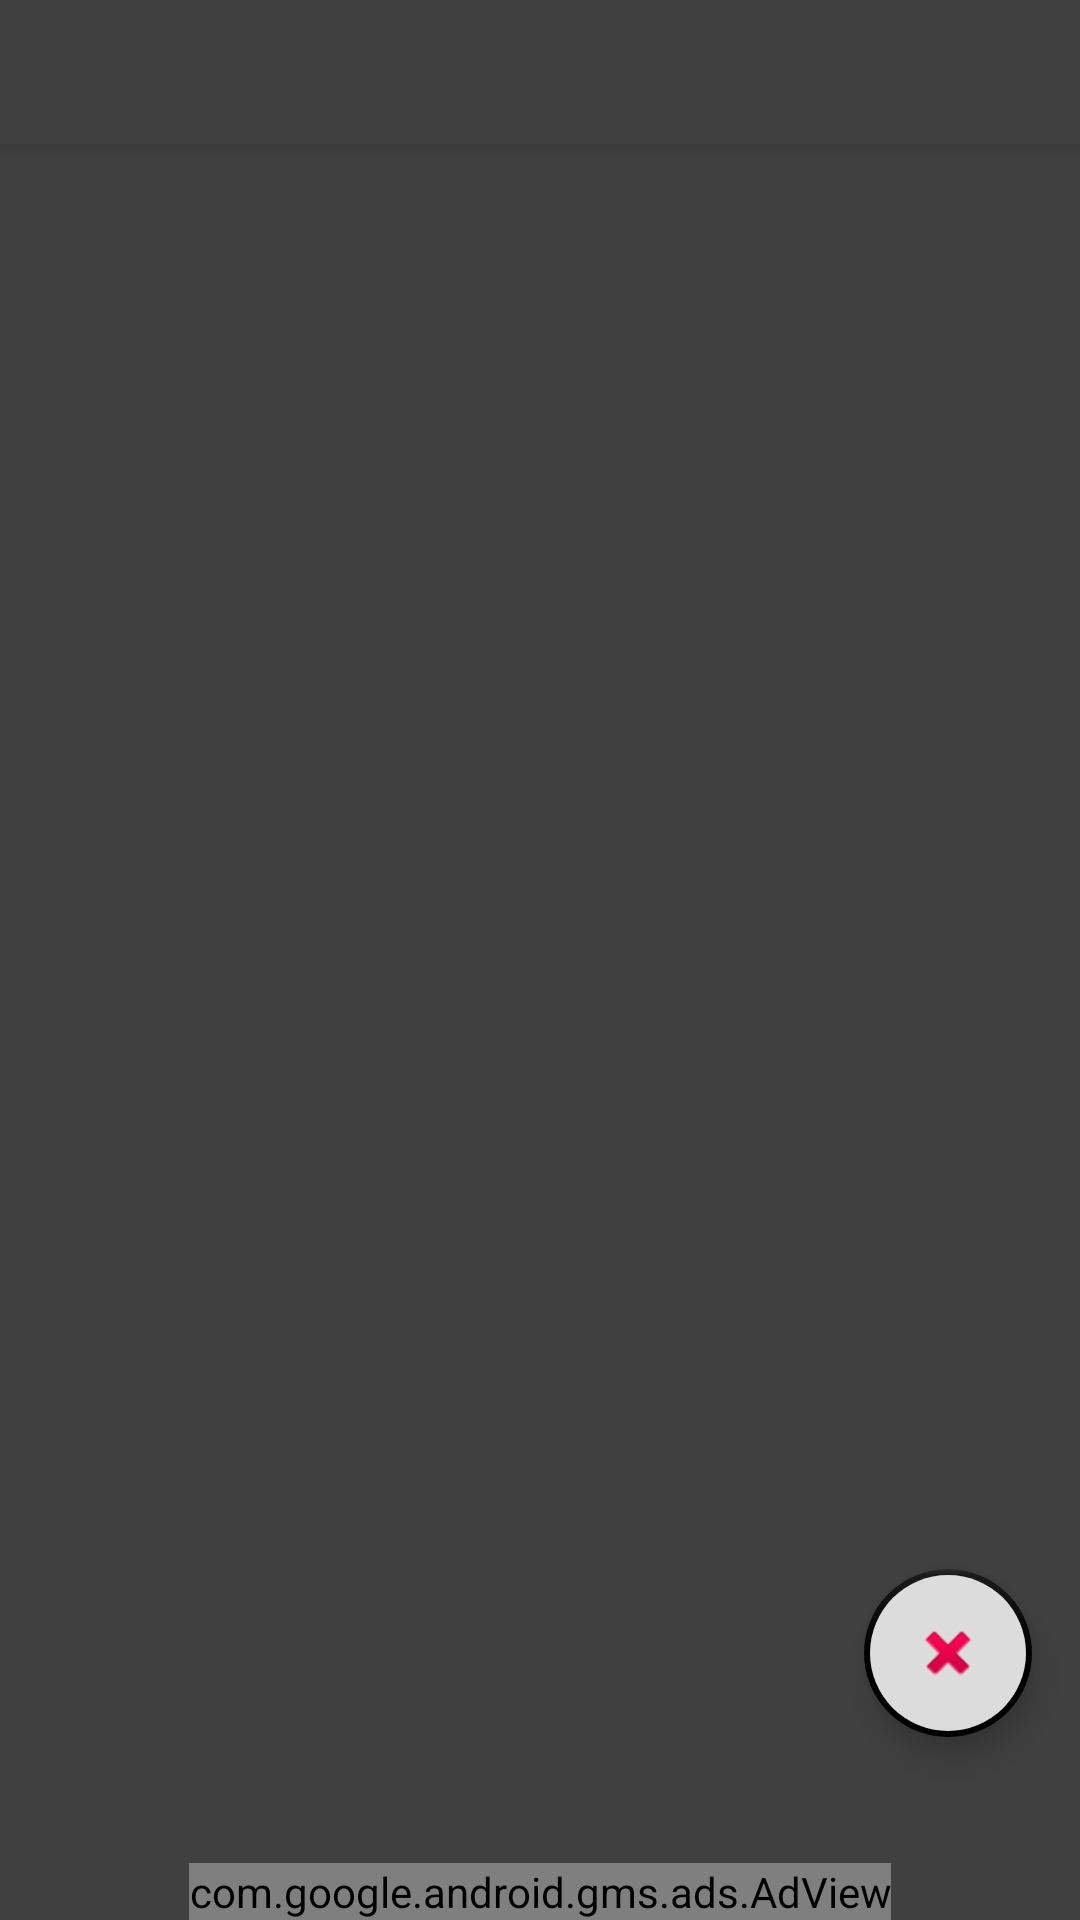

Screen size 1080px×1920px. Icon name, then its box in pixels as (x1, y1, x2, y2):
delete: (864, 1572, 1032, 1737)
